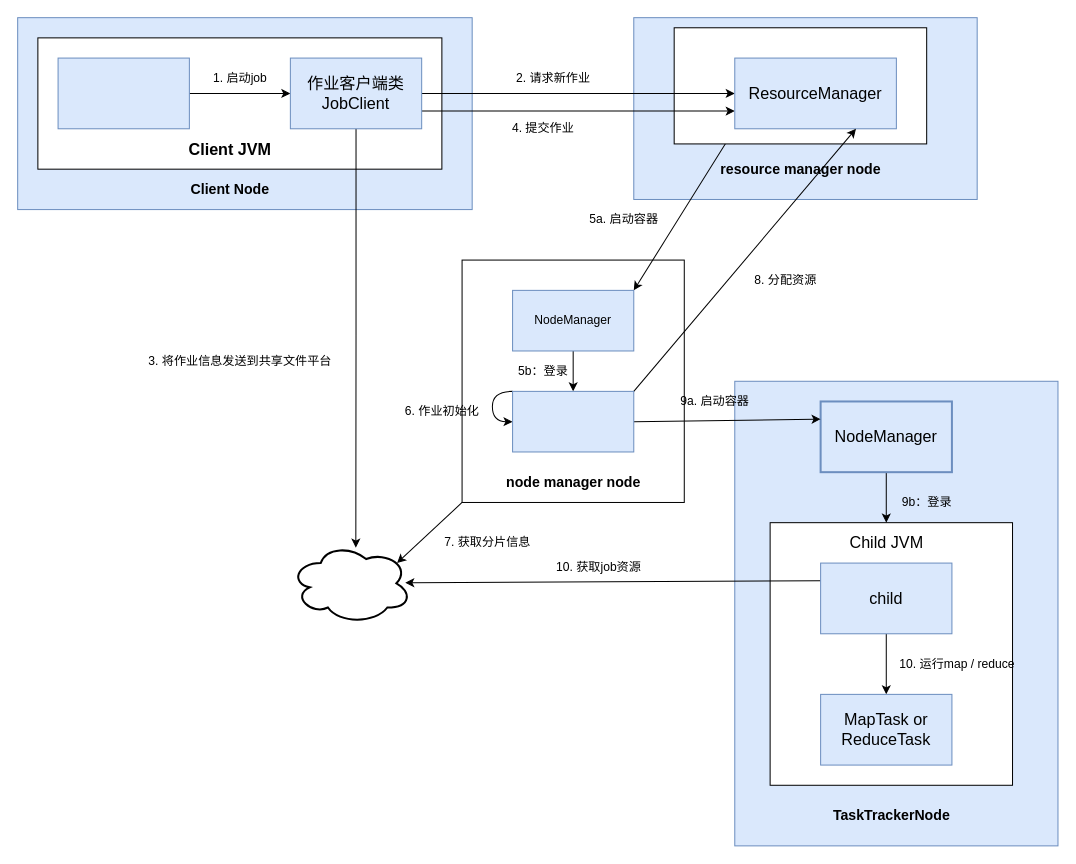
Image size: 1076x864. Some labels were removed from this diagram. The shapes that lost their labels are listed below. From the top down, each one's box as (x1, y1, x2, y2) in pixels, then its label:
(57, 57, 189, 129): MapReduce程序
(512, 390, 634, 452): MRAppMaster
(289, 541, 412, 624): 共享文件系统 HDFS
